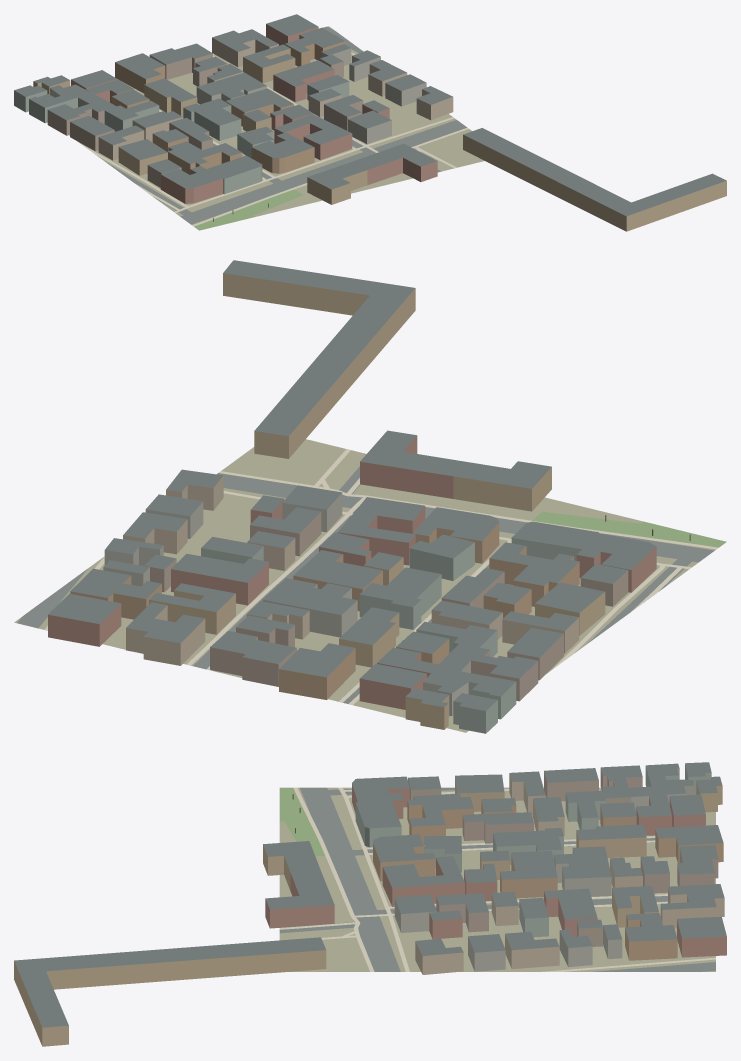
Rendered from sector-1_-2.glb.
3 renders of one model, top to bottom at view 1: azimuth 30°, elevation 25°; view 2: azimuth 150°, elevation 25°; view 3: azimuth 270°, elevation 25°, orthographic. The views are drawn at different scales.
Parts seen in each view (by area): view 1: 1:-2-roof, 1:-2-facade, 1:-2-ground, 1:-2-road, 1:-2-paving, 1:-2-park; view 2: 1:-2-roof, 1:-2-facade, 1:-2-ground, 1:-2-road, 1:-2-paving, 1:-2-park; view 3: 1:-2-roof, 1:-2-facade, 1:-2-ground, 1:-2-road, 1:-2-paving, 1:-2-park.
Part boxes in pixels (x1,y1,x2,y2): 1:-2-roof: (14, 14, 726, 216); 1:-2-facade: (14, 24, 726, 231); 1:-2-ground: (69, 26, 484, 225); 1:-2-road: (104, 26, 466, 224); 1:-2-paving: (81, 52, 468, 226); 1:-2-park: (194, 189, 303, 230); 1:-2-roof: (48, 260, 656, 710); 1:-2-facade: (48, 273, 656, 733); 1:-2-ground: (14, 439, 715, 732); 1:-2-road: (17, 466, 714, 703); 1:-2-paving: (44, 449, 718, 704); 1:-2-park: (533, 511, 726, 547); 1:-2-roof: (14, 762, 726, 1027); 1:-2-facade: (14, 764, 726, 1046); 1:-2-ground: (279, 787, 715, 971); 1:-2-road: (279, 787, 715, 971); 1:-2-paving: (279, 787, 715, 971); 1:-2-park: (279, 787, 324, 856).
Bounding box in the file's own units: 288 × 9.6 × 327.
